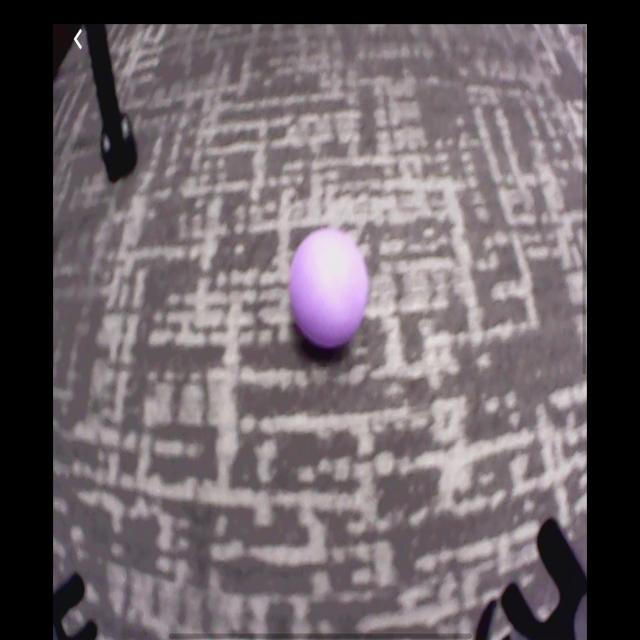ball: (290, 230, 372, 350)
